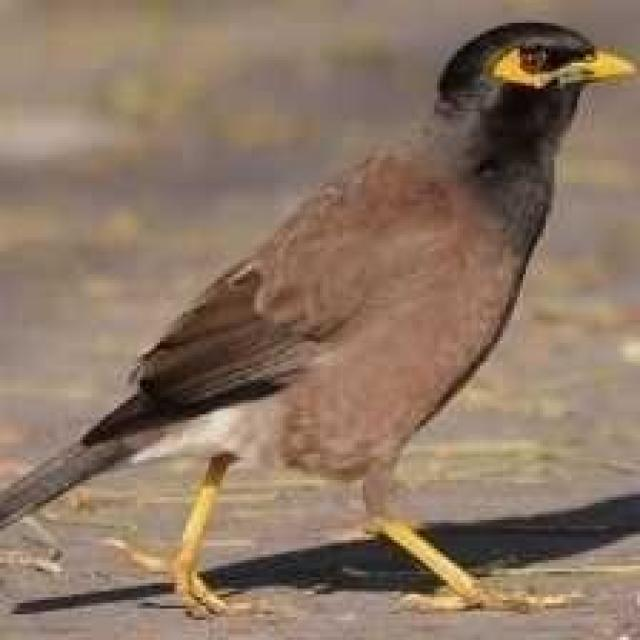bird: (0, 18, 640, 616)
